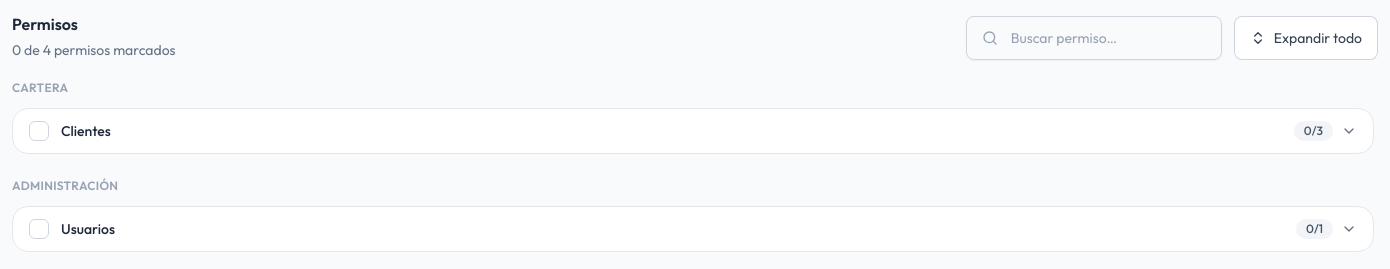
it: PermissionMatrix › la búsqueda ignora tildes y muestra solo las acciones que coinciden
Type "exportar" into the field with placeholder "Buscar permiso…" at (1094, 38), box [966,16,1222,60]
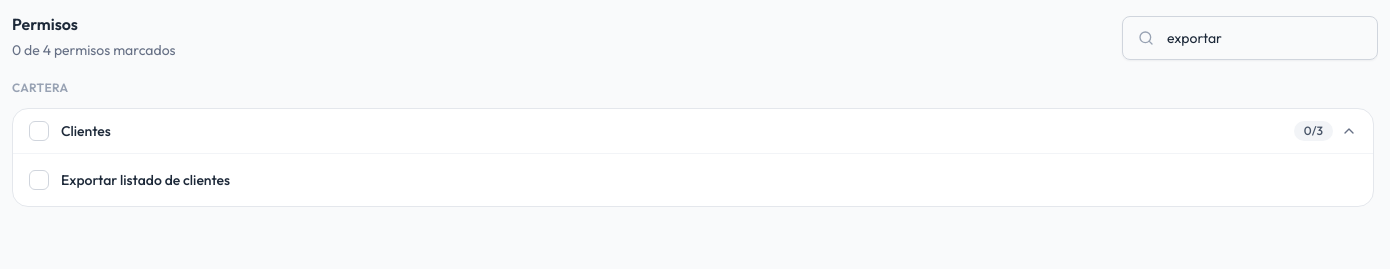
Expected: the text "Exportar listado de clientes" is shown, [61,170,230,190]
Expected: the heading "Administración" is gone
Replace the text in the field with placeholder "Buscar permiso…" with "administracion" at (1250, 38), box [1122,16,1378,60]
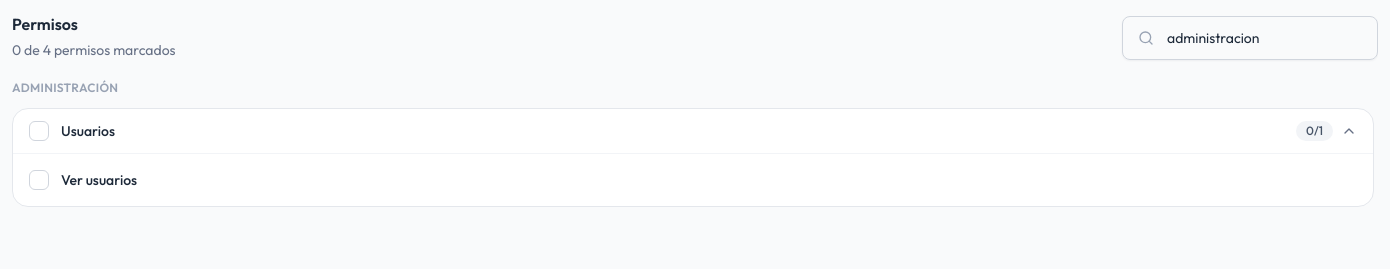
Expected: the text "Ver usuarios" is shown, [61,170,137,190]
Replace the text in the field with placeholder "Buscar permiso…" with "zzz" at (1250, 38), box [1122,16,1378,60]
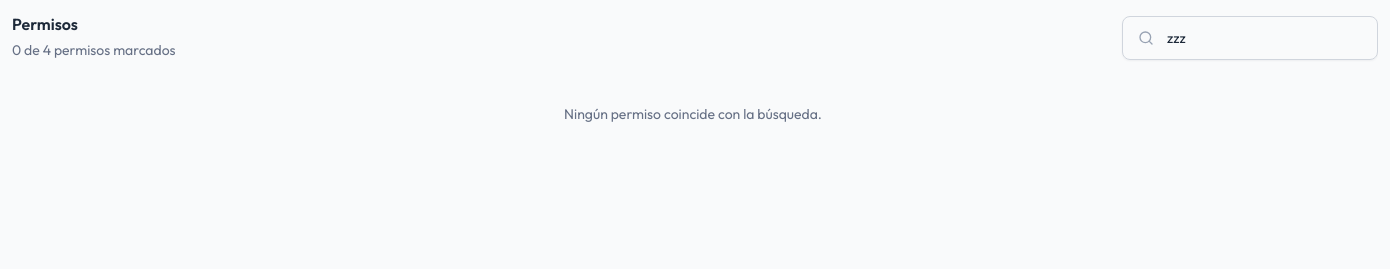
Expected: the text "Ningún permiso coincide con la búsqueda." is shown, [564,105,822,123]
